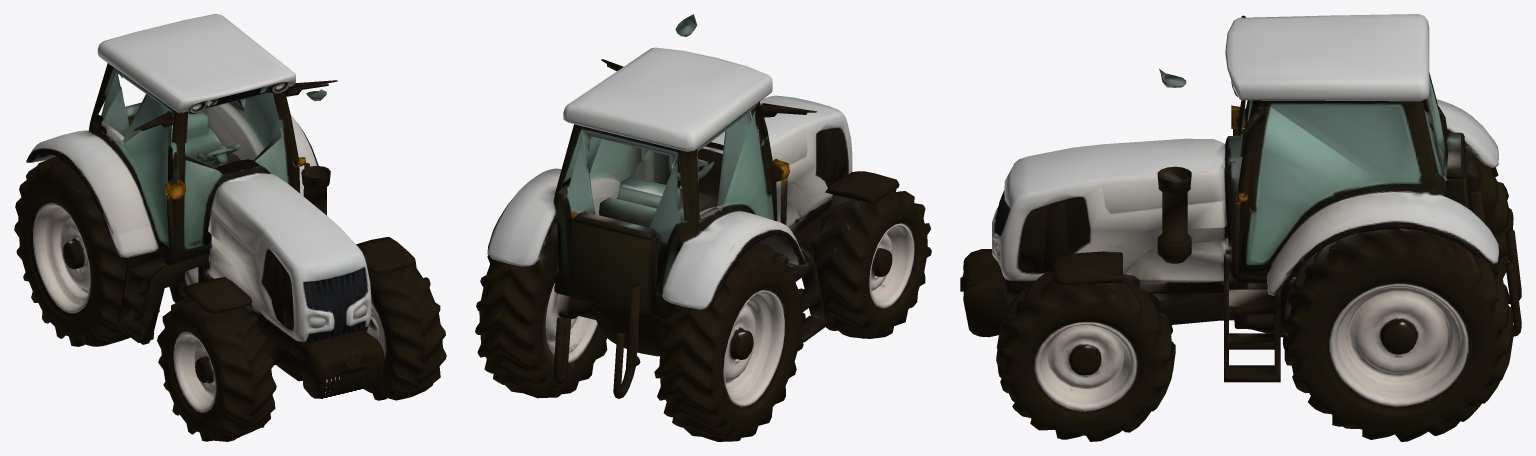
The model's file is a_tractor_58a807c5_v2.glb.
3 views of the same model, side by side, from view 1: azimuth 30°, elevation 25°; view 2: azimuth 150°, elevation 25°; view 3: azimuth 270°, elevation 25° (orthographic). The views are drawn at different scales.
Parts seen in each view (by area): view 1: material; view 2: material; view 3: material.
Boxes of the visible parts, left/top/right/bottom form: material: left=14, top=14, right=446, bottom=441; material: left=475, top=14, right=931, bottom=441; material: left=960, top=14, right=1521, bottom=441.
Bounding box in the file's own units: 1.04 × 1.28 × 1.9.
Materials: 1 (1 with a texture image).
